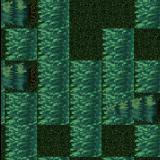Obstacle: (5, 61, 36, 91), (5, 0, 36, 28), (133, 94, 160, 126)
Slow: (36, 0, 68, 125), (100, 26, 133, 126), (68, 60, 101, 156), (4, 92, 36, 160), (4, 28, 36, 61), (133, 59, 160, 93), (133, 126, 160, 158), (134, 0, 160, 27)
